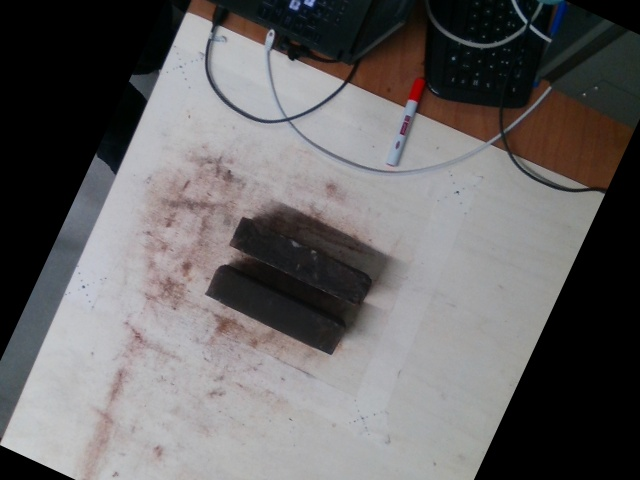brick-side: (227, 215, 372, 308), (207, 268, 344, 354)
